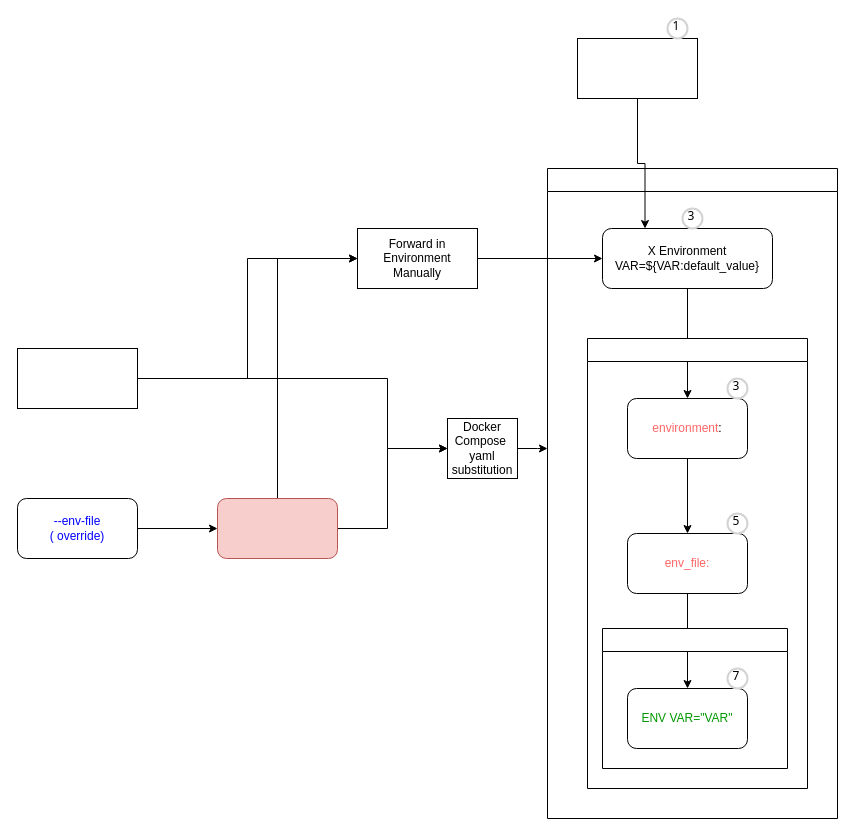
Some shapes in this 855 by 836 pixel diagram are drawn without their labels. Each missing label, with the box of its shape:
.env: (216, 498, 338, 558)
Compose argument -e: (576, 38, 698, 98)
Dockerfile: (602, 628, 788, 768)
Global: (546, 168, 838, 818)
Service: (586, 338, 808, 788)
Shell Variable: (16, 348, 138, 408)
